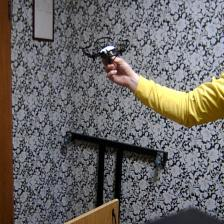drone: (81, 28, 133, 64)
